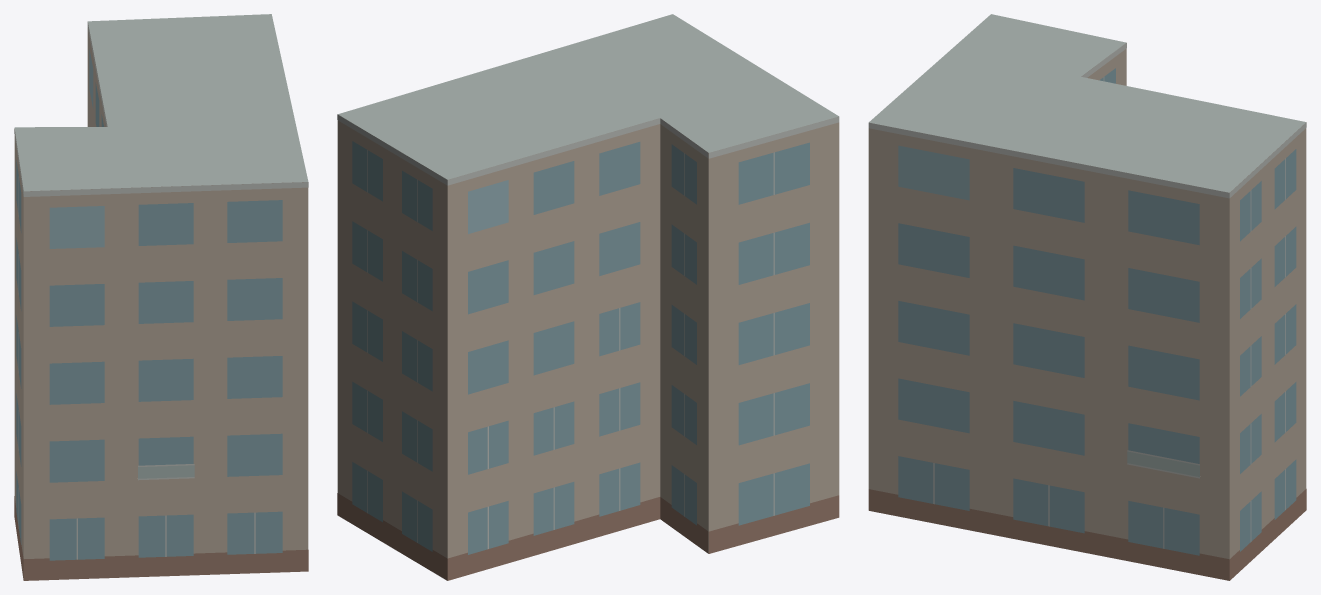
Rendered from survey-upis-32533672.glb.
3 renders of one model, left to right at view 1: azimuth 30°, elevation 25°; view 2: azimuth 150°, elevation 25°; view 3: azimuth 270°, elevation 25°, orthographic. The views are drawn at different scales.
Visible parts, largest first — view 1: survey-upis-32533672.tmp; view 2: survey-upis-32533672.tmp; view 3: survey-upis-32533672.tmp.
Part boxes in pixels (x1,y1,x2,y2): survey-upis-32533672.tmp: (14, 14, 308, 580); survey-upis-32533672.tmp: (337, 14, 839, 580); survey-upis-32533672.tmp: (868, 14, 1306, 580).
Size of the model in its own units: 16.51 by 16.7 by 17.09.
